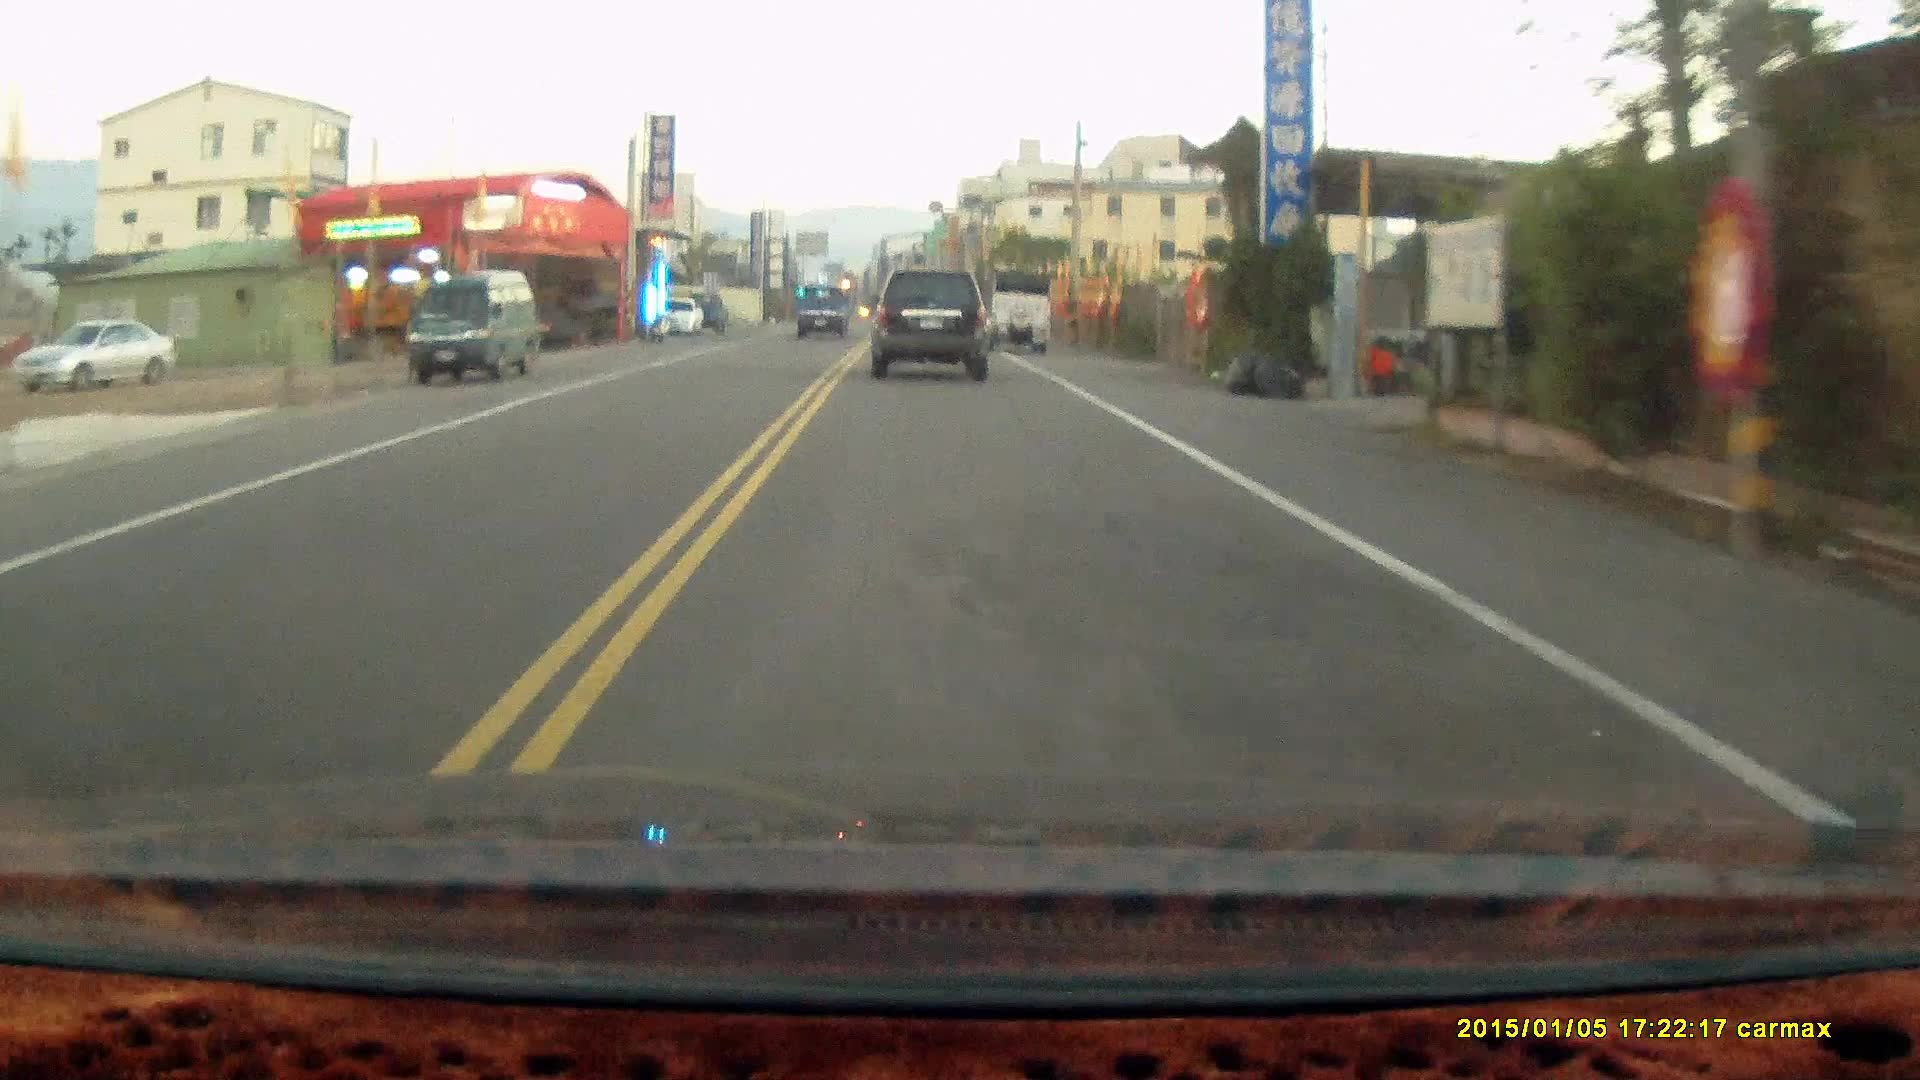vehicle: (401, 268, 535, 390), (869, 265, 993, 381), (8, 314, 183, 392), (973, 268, 1055, 353), (796, 284, 851, 340)
